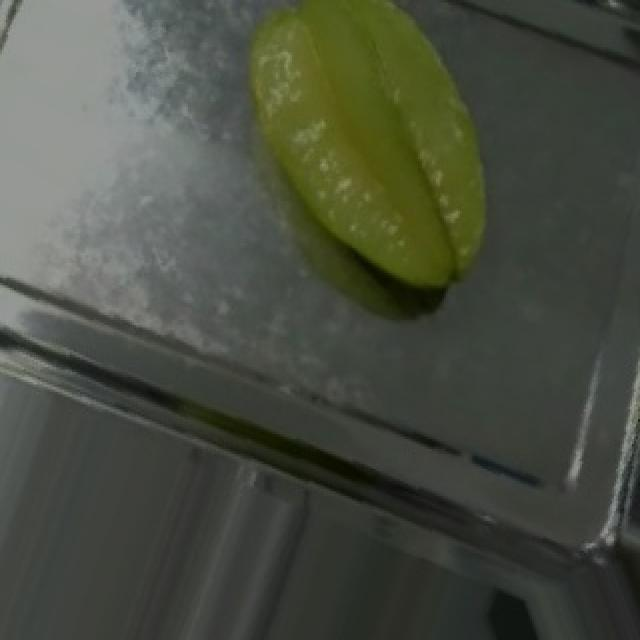fruit: (190, 0, 560, 325)
